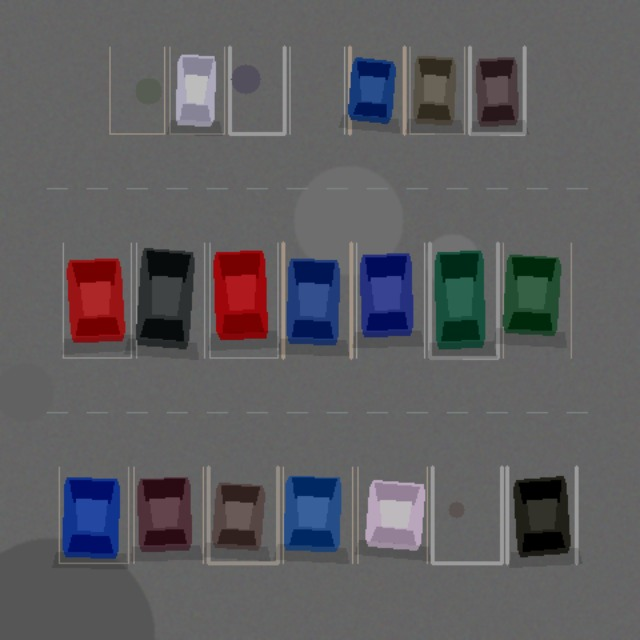space-empty: (432, 467, 501, 563), (109, 47, 164, 133), (229, 47, 284, 133), (289, 47, 344, 133)
space-occupied: (63, 243, 131, 357), (136, 243, 204, 357), (209, 243, 277, 357), (283, 243, 351, 357), (356, 243, 424, 357), (429, 243, 497, 357), (503, 243, 571, 357), (133, 467, 203, 563), (357, 467, 427, 563), (59, 467, 128, 563), (208, 467, 277, 563), (283, 467, 352, 563), (507, 467, 576, 563), (169, 47, 224, 133), (349, 47, 404, 133), (409, 47, 464, 133), (469, 47, 524, 133)
